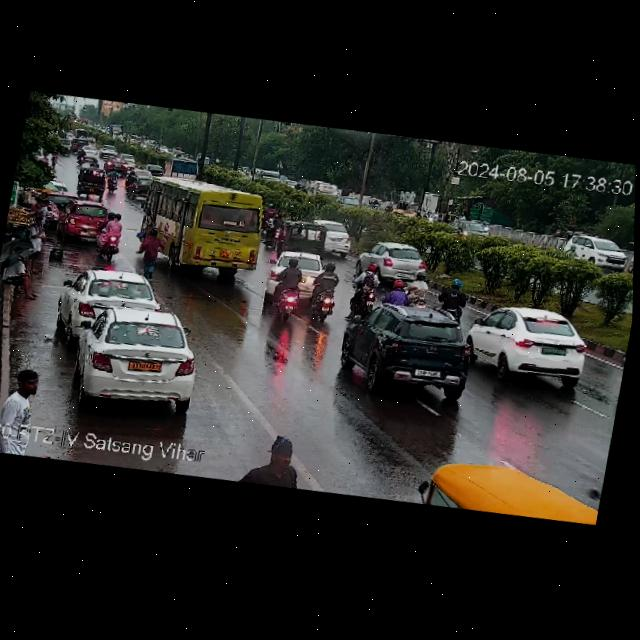bus: (129, 166, 272, 281)
car: (56, 294, 209, 418), (335, 293, 492, 403), (415, 446, 606, 531), (466, 299, 598, 391), (60, 263, 161, 334), (354, 236, 430, 284), (558, 230, 634, 275), (272, 216, 333, 258), (56, 200, 108, 243), (449, 216, 499, 242), (323, 218, 357, 254), (374, 200, 427, 223), (76, 164, 109, 200), (263, 255, 283, 295), (127, 176, 149, 203), (102, 155, 127, 174), (115, 153, 139, 170), (144, 163, 167, 179), (99, 143, 123, 158), (86, 147, 99, 160)
motorcycle: (269, 253, 309, 319), (310, 259, 344, 321), (92, 211, 127, 262), (348, 263, 380, 317), (442, 273, 471, 318), (404, 271, 435, 307), (385, 276, 410, 304), (106, 169, 123, 194), (125, 169, 137, 188), (76, 149, 87, 168), (92, 157, 100, 167)
person: (235, 434, 315, 492), (0, 367, 48, 435), (0, 249, 47, 301), (24, 216, 49, 272), (40, 187, 81, 213)
truck: (161, 155, 205, 184)
